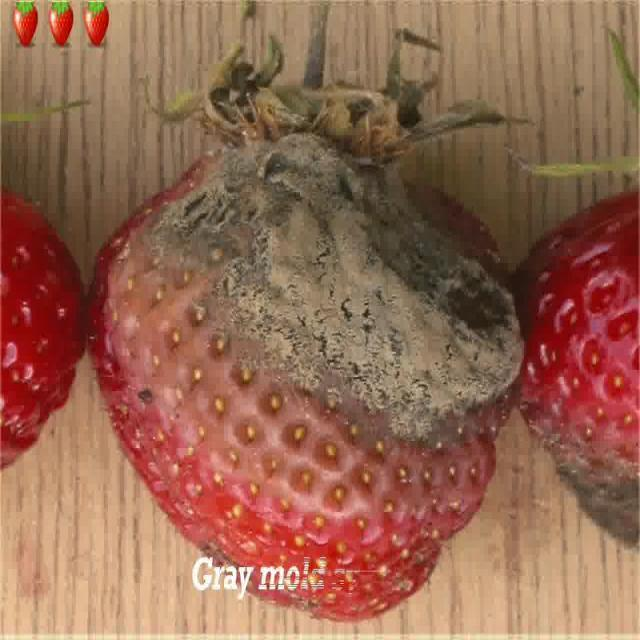Moho gris: (67, 76, 529, 630)
